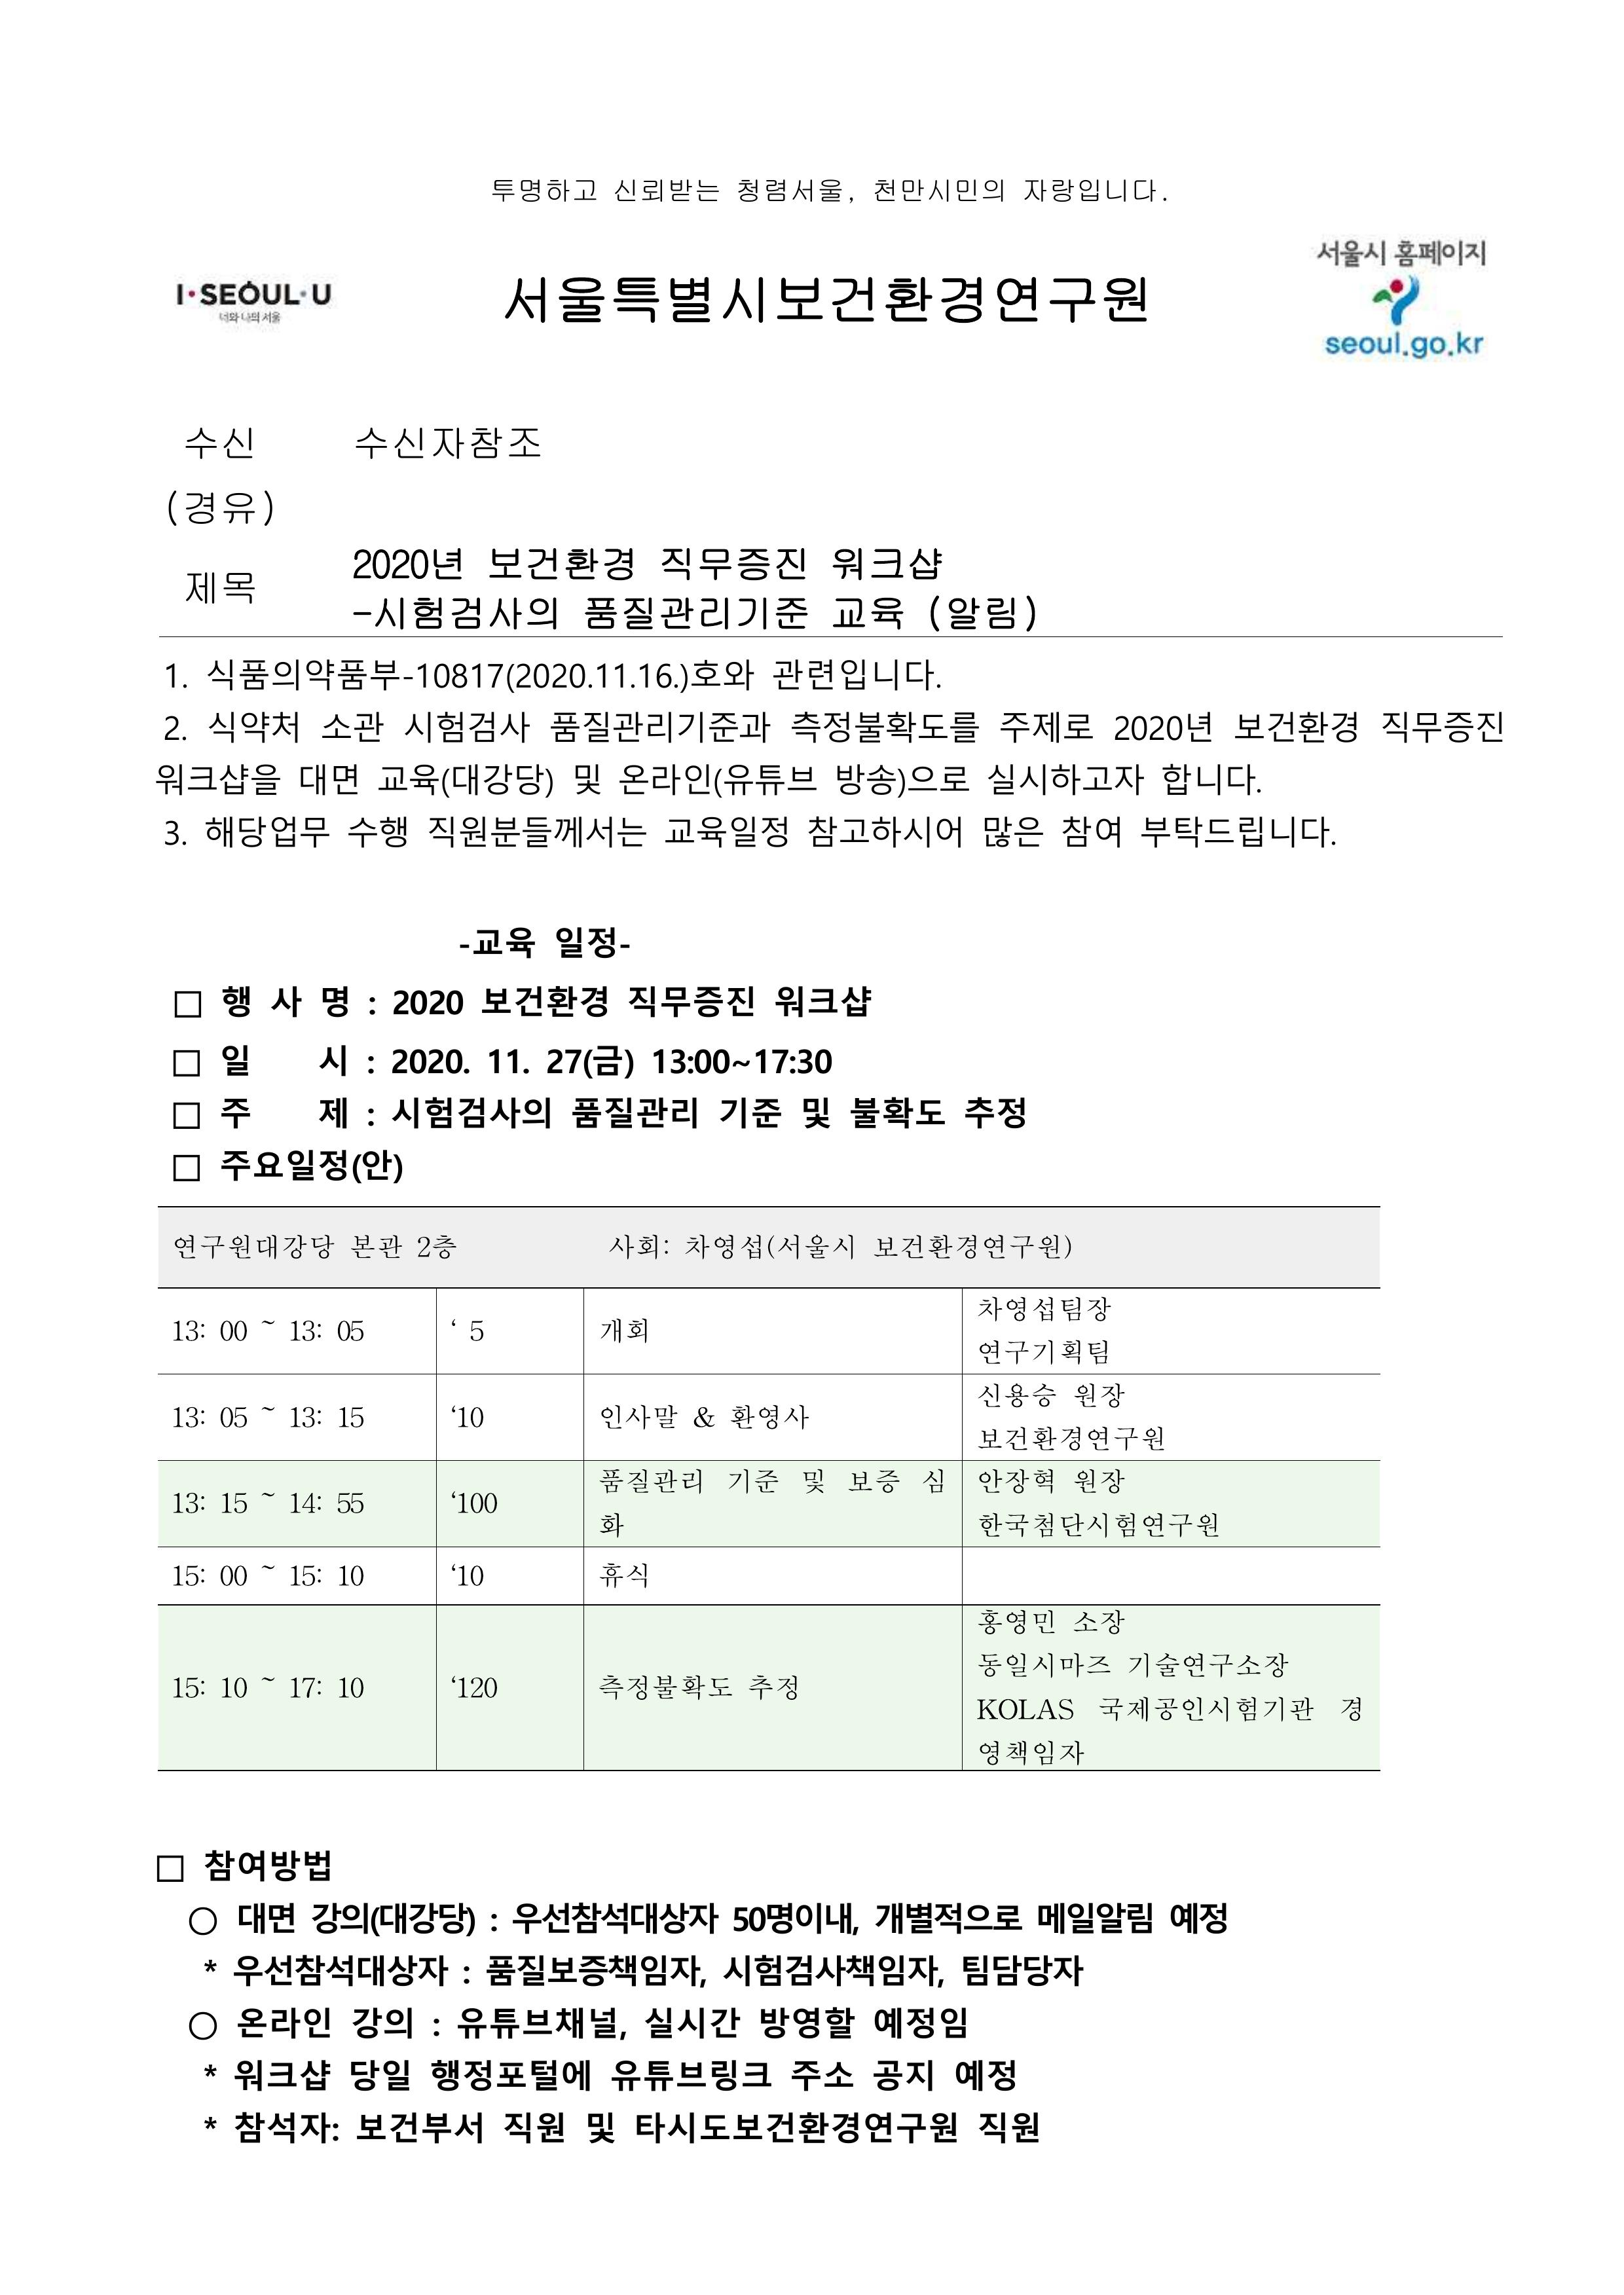t: (499, 269, 1148, 329), (204, 655, 756, 696), (631, 2109, 958, 2147), (580, 590, 814, 638), (232, 1951, 455, 1993), (352, 590, 559, 634), (424, 814, 645, 854), (483, 1951, 710, 1989), (721, 1951, 946, 1989), (548, 706, 772, 745), (508, 1896, 721, 1937), (721, 1462, 946, 1499), (789, 706, 982, 749), (355, 424, 545, 466), (975, 1509, 1223, 1541), (617, 761, 817, 800), (376, 761, 559, 803), (308, 1896, 476, 1940), (1097, 1692, 1316, 1724), (1137, 814, 1334, 849), (772, 655, 939, 696), (387, 1093, 552, 1133), (487, 545, 638, 589), (659, 545, 810, 589), (427, 2054, 591, 2095), (610, 2054, 773, 2095), (649, 1044, 835, 1079), (218, 1147, 404, 1183), (872, 1230, 1076, 1262), (596, 1671, 800, 1703), (455, 2005, 620, 2044), (803, 810, 965, 849), (1123, 1645, 1290, 1682), (986, 761, 1144, 800), (870, 1900, 1021, 1940), (624, 982, 761, 1026), (975, 1423, 1165, 1455), (480, 982, 613, 1026), (569, 1093, 703, 1137), (200, 1847, 337, 1889), (975, 1462, 1130, 1499), (162, 487, 279, 534), (1378, 706, 1510, 749), (680, 1230, 856, 1262), (958, 1951, 1090, 1993), (172, 1230, 341, 1262), (831, 761, 968, 800), (169, 276, 334, 308), (200, 814, 329, 854), (728, 1896, 856, 1937), (401, 706, 534, 745), (924, 590, 1040, 634), (1018, 172, 1162, 207), (352, 545, 466, 589), (975, 1379, 1125, 1413), (1230, 706, 1359, 745), (155, 761, 283, 800), (355, 2109, 483, 2147), (1033, 1896, 1155, 1937), (663, 810, 789, 849), (214, 1560, 369, 1592), (974, 1293, 1111, 1328), (176, 1492, 369, 1517), (756, 2000, 856, 2047), (979, 1606, 1125, 1638), (228, 2109, 344, 2147), (868, 176, 1007, 207), (828, 545, 944, 582), (975, 1334, 1111, 1365), (228, 2054, 334, 2095), (979, 1650, 1111, 1682), (731, 172, 849, 207), (845, 1093, 946, 1133), (1158, 761, 1262, 800), (489, 170, 599, 206), (610, 172, 721, 207), (772, 982, 872, 1021), (642, 2005, 742, 2044), (689, 1402, 810, 1434), (204, 706, 301, 745), (997, 706, 1093, 745), (872, 2005, 968, 2044), (218, 1406, 369, 1430), (541, 1040, 634, 1079), (1111, 710, 1213, 745), (237, 2005, 334, 2040), (972, 1692, 1076, 1724), (599, 1466, 707, 1495), (172, 982, 255, 1021), (1390, 237, 1489, 269), (961, 1093, 1028, 1137), (552, 924, 631, 961), (387, 1044, 469, 1079), (348, 2054, 417, 2096), (1308, 237, 1387, 272), (717, 1093, 786, 1133), (1004, 1734, 1086, 1768), (786, 2054, 852, 2095), (868, 2054, 935, 2095), (183, 569, 255, 606), (186, 424, 255, 462), (469, 921, 534, 961), (1323, 329, 1410, 358), (599, 1402, 680, 1434), (831, 596, 903, 631), (1058, 810, 1123, 849), (387, 986, 466, 1017), (951, 2058, 1018, 2095), (318, 710, 387, 745), (348, 2005, 417, 2040), (232, 1900, 297, 1937), (297, 761, 359, 800), (344, 814, 411, 849), (979, 814, 1044, 849), (501, 2109, 566, 2144), (975, 2109, 1040, 2144), (1165, 1900, 1225, 1937), (606, 1230, 673, 1258), (348, 1230, 404, 1262), (483, 1044, 534, 1075), (315, 982, 355, 1021), (452, 1671, 501, 1703), (411, 1230, 459, 1262), (315, 1093, 355, 1130), (265, 982, 308, 1017), (218, 1320, 276, 1344), (315, 1044, 355, 1079), (796, 1093, 831, 1133), (599, 1560, 649, 1589), (452, 1488, 499, 1517), (569, 761, 603, 800), (584, 2109, 617, 2147), (1410, 334, 1455, 362), (218, 1093, 251, 1130), (169, 1560, 211, 1589), (218, 1044, 251, 1079), (172, 1097, 207, 1130), (603, 1320, 649, 1344), (1452, 329, 1489, 358), (172, 1402, 211, 1430), (448, 1560, 487, 1589), (218, 1675, 255, 1703), (286, 1320, 327, 1344), (286, 1678, 327, 1703), (334, 1316, 369, 1344), (452, 1402, 487, 1430), (172, 1320, 211, 1344), (172, 1678, 211, 1703), (165, 713, 193, 745), (162, 817, 190, 849), (1334, 1696, 1362, 1724), (165, 662, 190, 691), (979, 1740, 1004, 1768), (337, 1678, 369, 1699), (603, 1513, 624, 1534)
